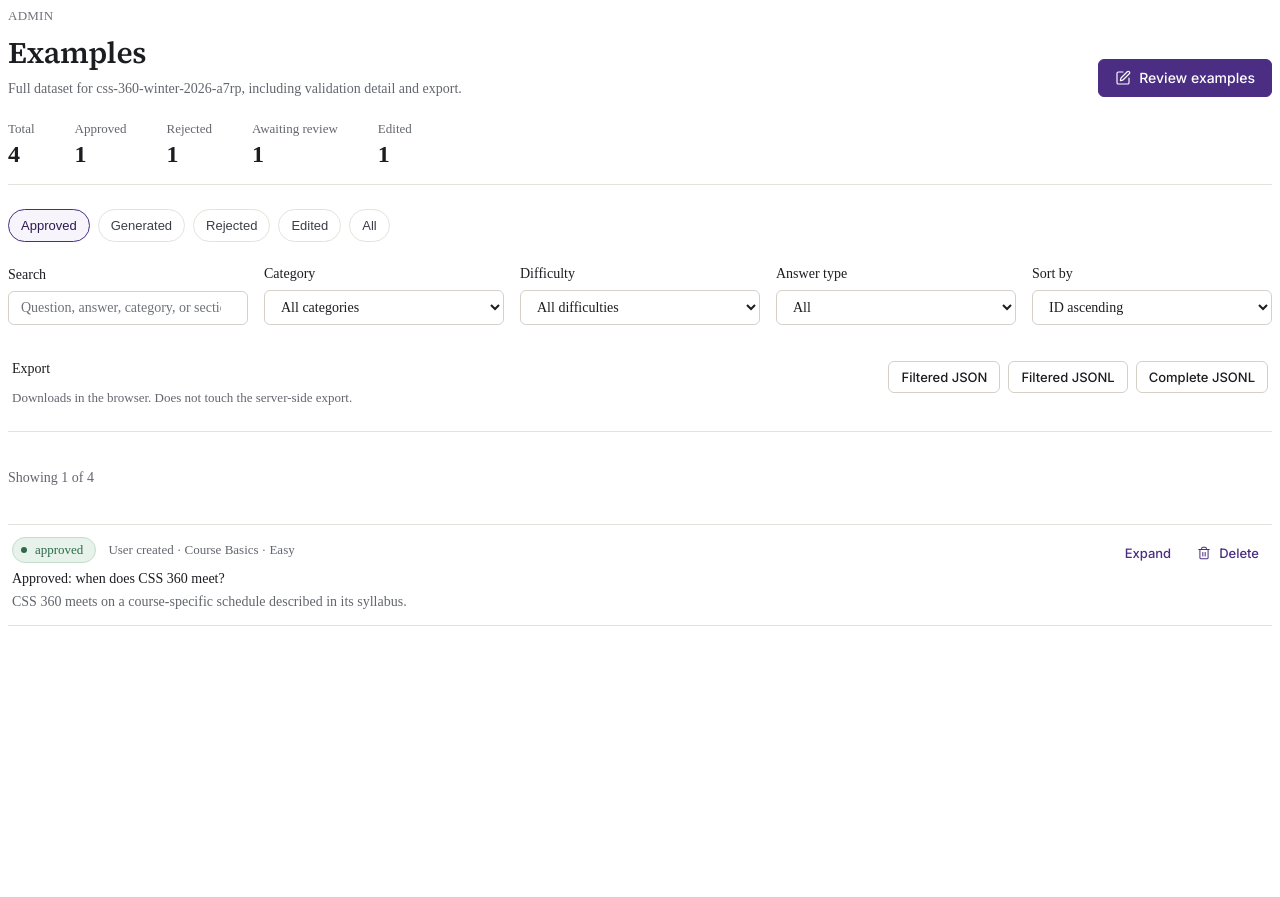
it: AdminExamplesPage course separation › defaults to approved seeds and summarizes review status counts
This screenshot has width=1280, height=897.
Check: the text "Awaiting review" is shown, box [252,121,338,137]
Check: the element with class "admin-stats" is shown, box [8,121,1272,185]
Click the tab "Generated" at x=141, y=226, box [98,209,185,242]
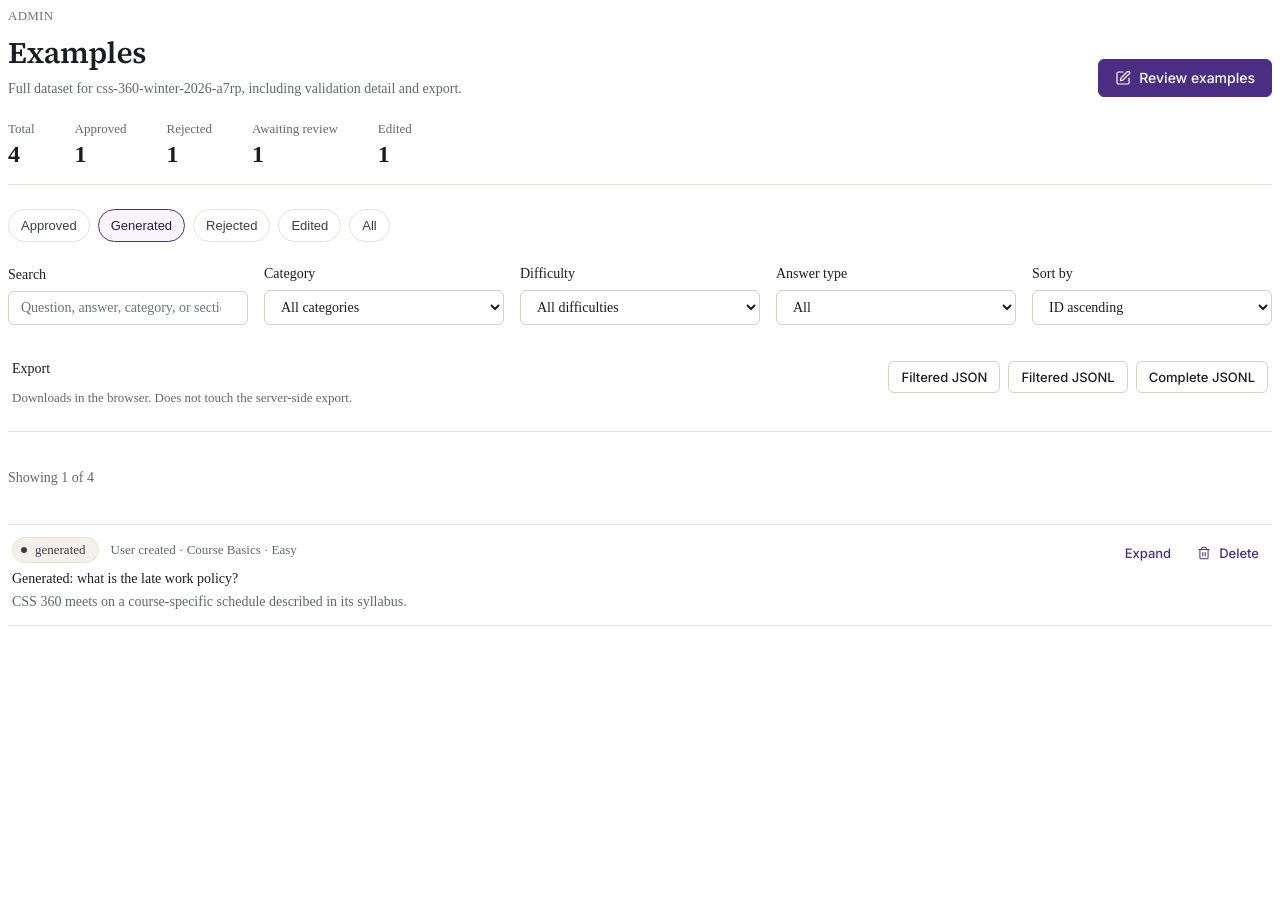
Check: the text "Generated: what is the late work policy?" is shown, box [12,571,238,586]
Check: the text "Approved: when does CSS 360 meet?" is gone
Click the tab "All" at x=370, y=226, box [349,209,390,242]
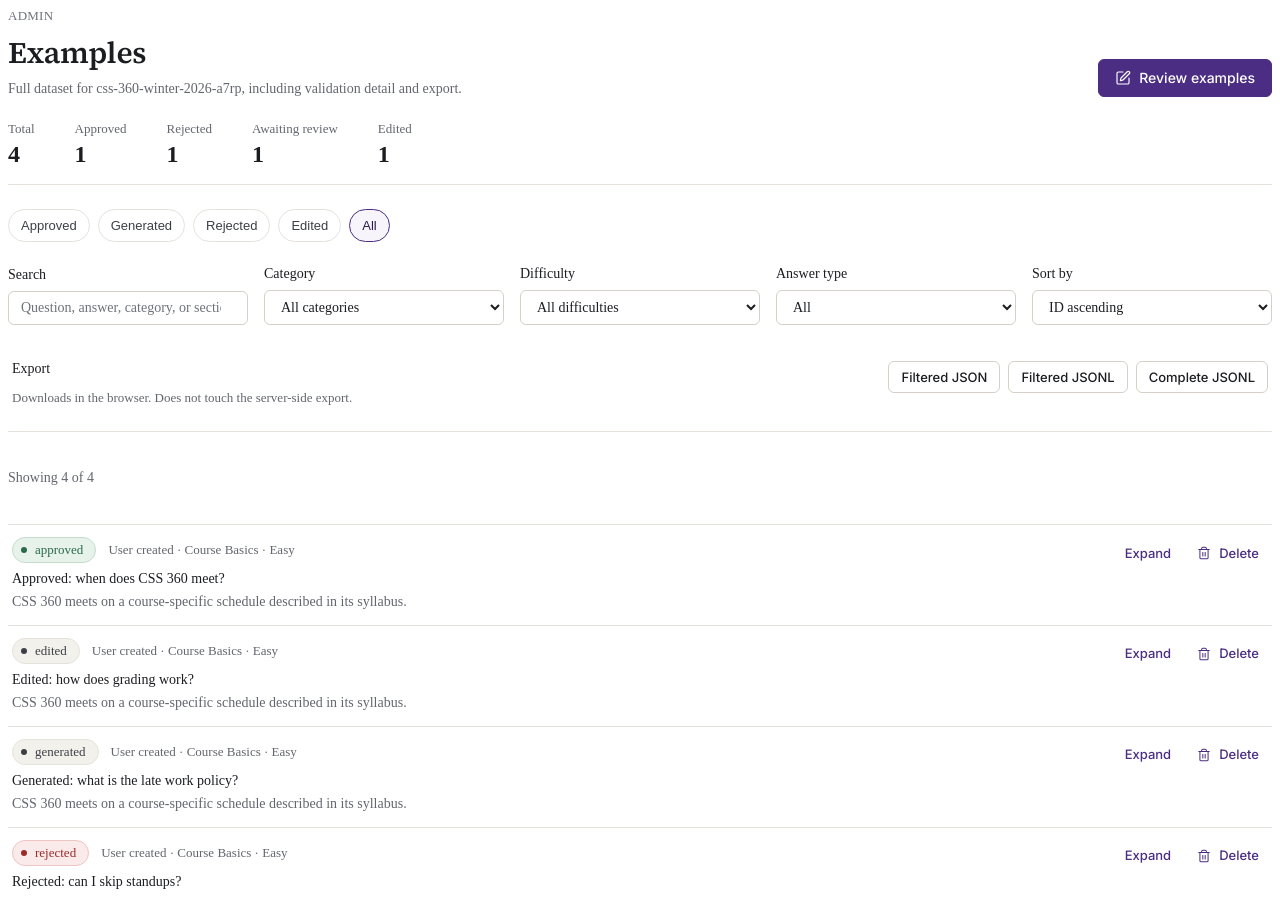
Check: the dropdown labelled "Category" shows "All categories", box [264,290,504,325]
Check: the text "Showing 4 of 4" is shown, box [8,470,94,485]
Check: the text "Edited: how does grading work?" is shown, box [12,672,194,687]
